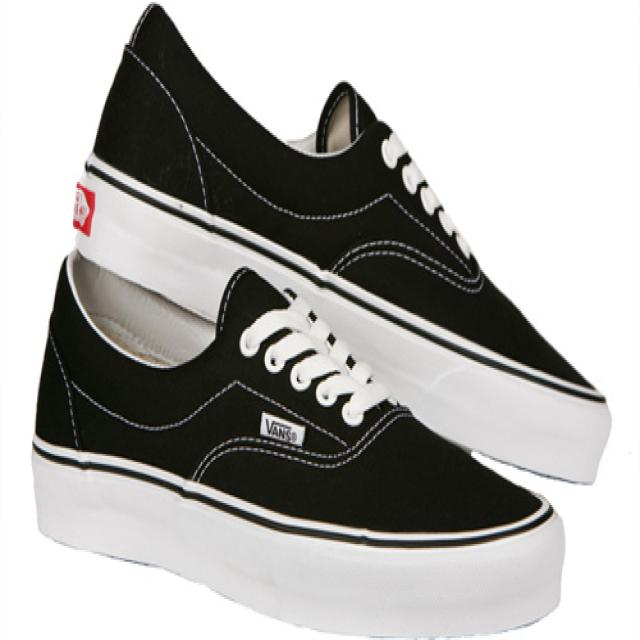shoe: (26, 1, 614, 636), (69, 4, 610, 487), (31, 248, 566, 634)
